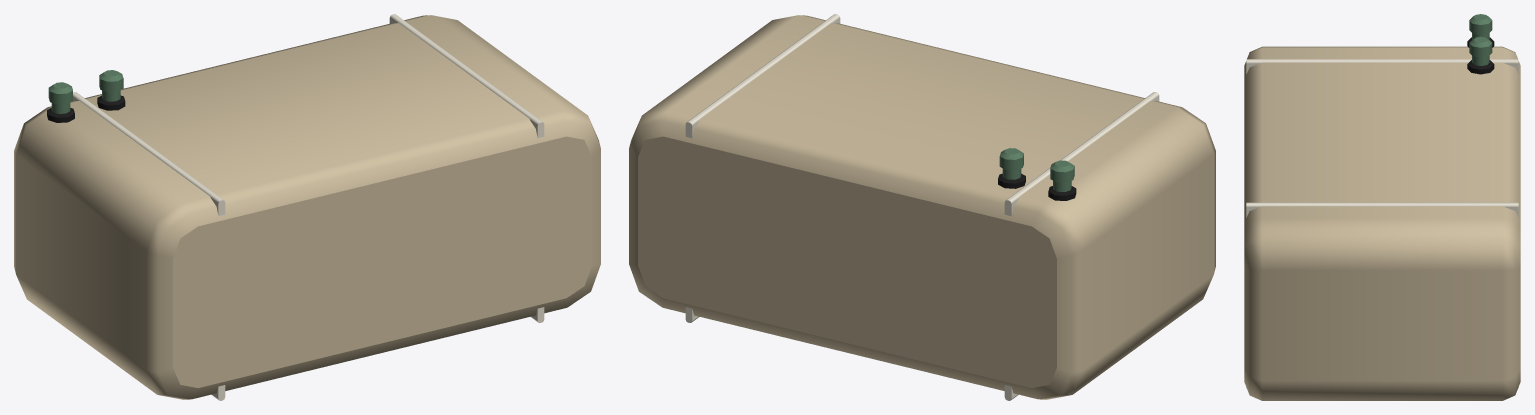
File: t10_cabinet.obj
3 renders of one model, left to right at view 1: azimuth 30°, elevation 25°; view 2: azimuth 150°, elevation 25°; view 3: azimuth 270°, elevation 25°, orthographic. The views are drawn at different scales.
Visible parts, largest first — view 1: t10_cabinet; view 2: t10_cabinet; view 3: t10_cabinet.
Part boxes in pixels (x1,y1,x2,y2): t10_cabinet: (14, 14, 600, 400); t10_cabinet: (629, 14, 1215, 400); t10_cabinet: (1244, 14, 1520, 400).
Bounding box in the file's own units: 2.69 × 1.31 × 1.55.
